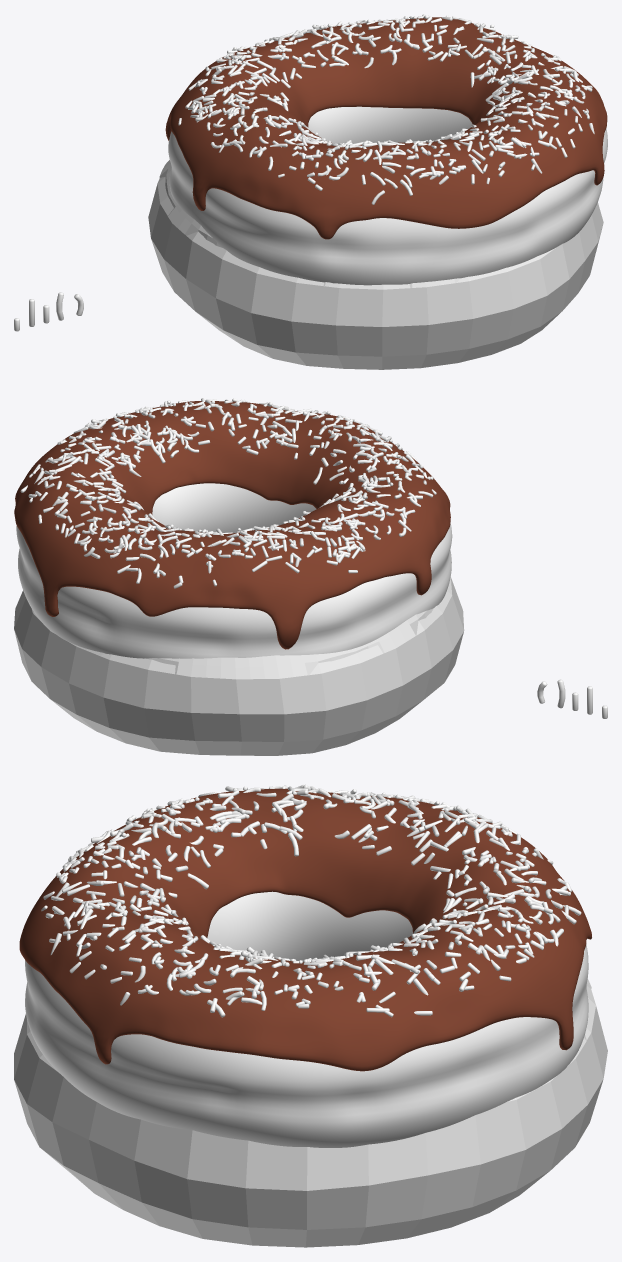
3 renders of one model, top to bottom at view 1: azimuth 30°, elevation 25°; view 2: azimuth 150°, elevation 25°; view 3: azimuth 270°, elevation 25°, orthographic. The views are drawn at different scales.
Visible parts, largest first — view 1: Es, Donat.001, Donat, Es.001; view 2: Es, Donat.001, Donat, Es.001; view 3: Es, Donat.001, Donat.
Part boxes in pixels (bbox=[...]): Es: bbox=[165, 17, 607, 239]; Donat.001: bbox=[148, 176, 603, 369]; Donat: bbox=[168, 106, 607, 285]; Es.001: bbox=[159, 160, 459, 287]; Es: bbox=[14, 401, 450, 649]; Donat.001: bbox=[14, 577, 464, 755]; Donat: bbox=[16, 483, 452, 658]; Es.001: bbox=[68, 608, 433, 679]; Es: bbox=[19, 788, 591, 1071]; Donat.001: bbox=[14, 986, 607, 1247]; Donat: bbox=[25, 891, 588, 1147].
Size of what is drawn, in the model's own units: 0.2189 by 0.082 by 0.1512.
